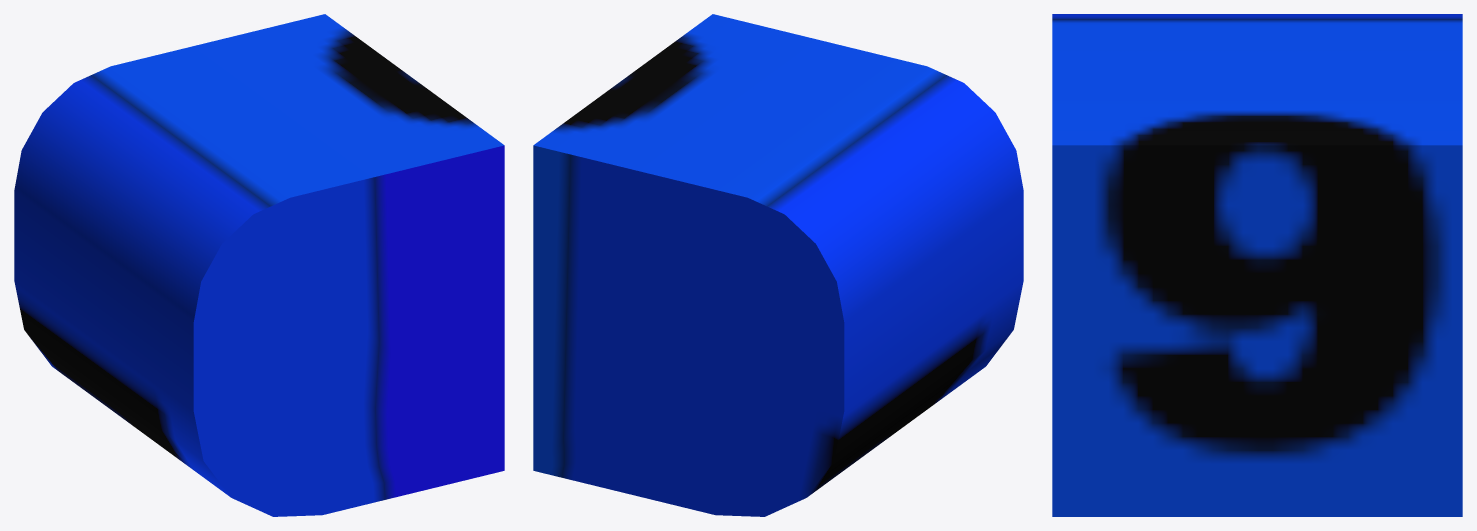
File: SM_Module_1x1_beveled.fbx
3 renders of one model, left to right at view 1: azimuth 30°, elevation 25°; view 2: azimuth 150°, elevation 25°; view 3: azimuth 270°, elevation 25°, orthographic. The views are drawn at different scales.
Visible parts, largest first — view 1: SM_Module_1x1_beveled; view 2: SM_Module_1x1_beveled; view 3: SM_Module_1x1_beveled.
Part boxes in pixels (bbox=[...]): SM_Module_1x1_beveled: bbox=[14, 14, 504, 516]; SM_Module_1x1_beveled: bbox=[533, 14, 1023, 516]; SM_Module_1x1_beveled: bbox=[1052, 14, 1462, 516].
Bounding box in the file's own units: 100 × 100 × 100.
1 material, 1 textured.
